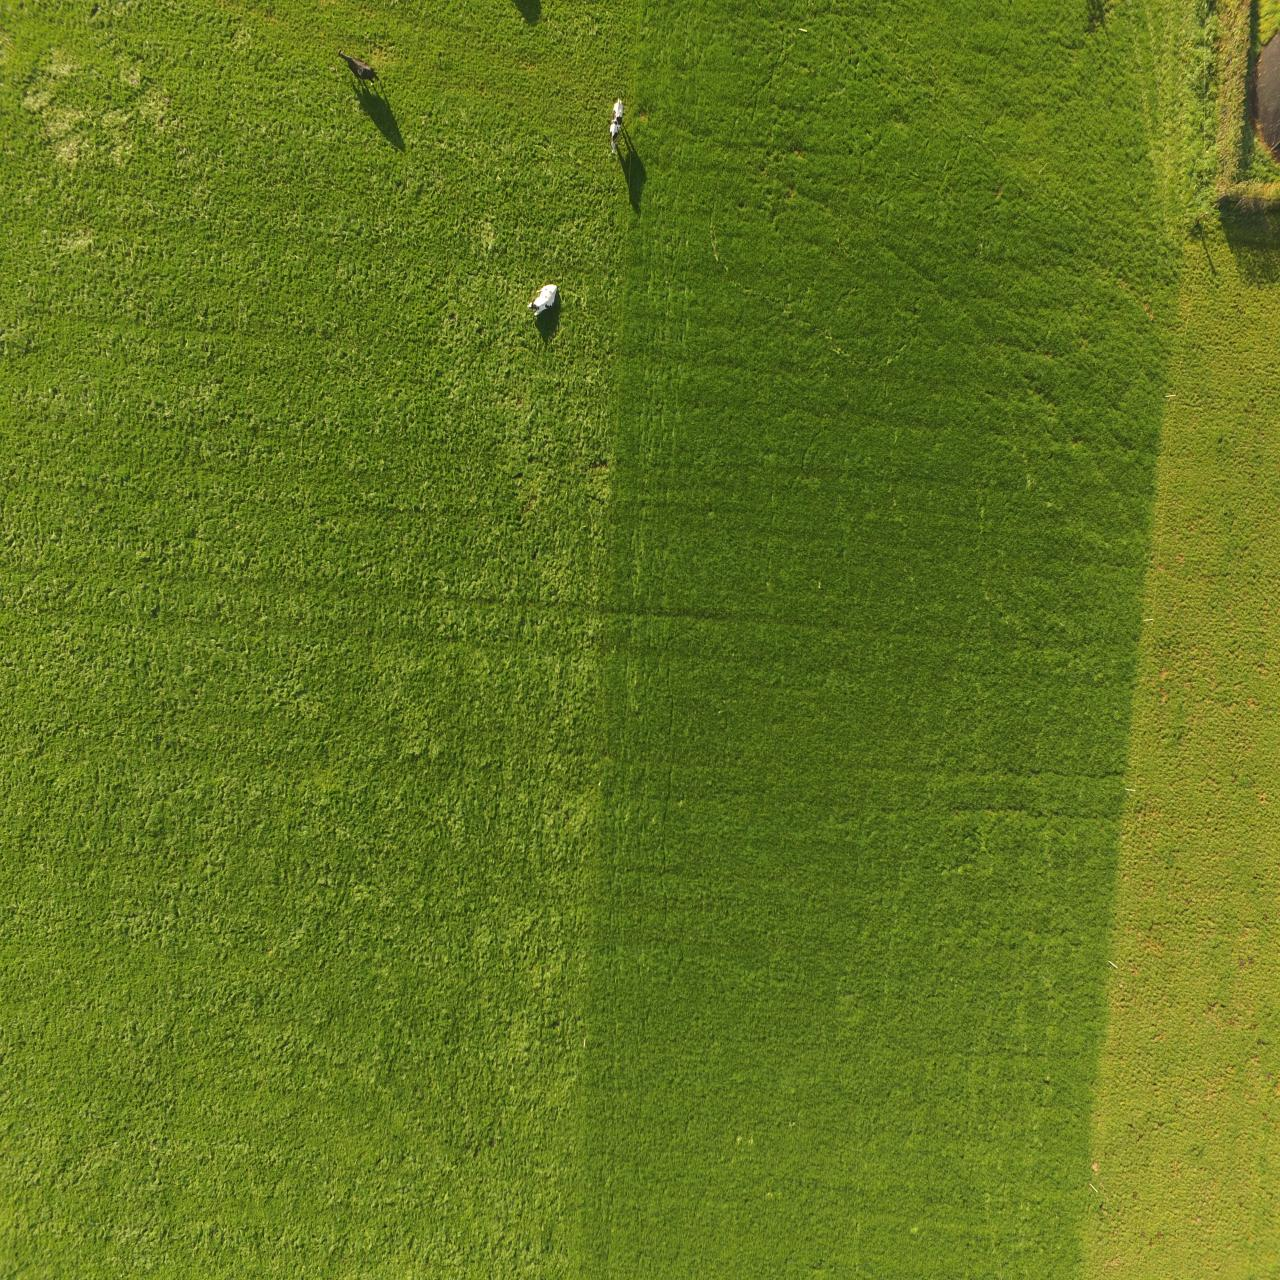cow: (338, 41, 388, 102), (525, 272, 564, 329), (606, 86, 632, 151)
